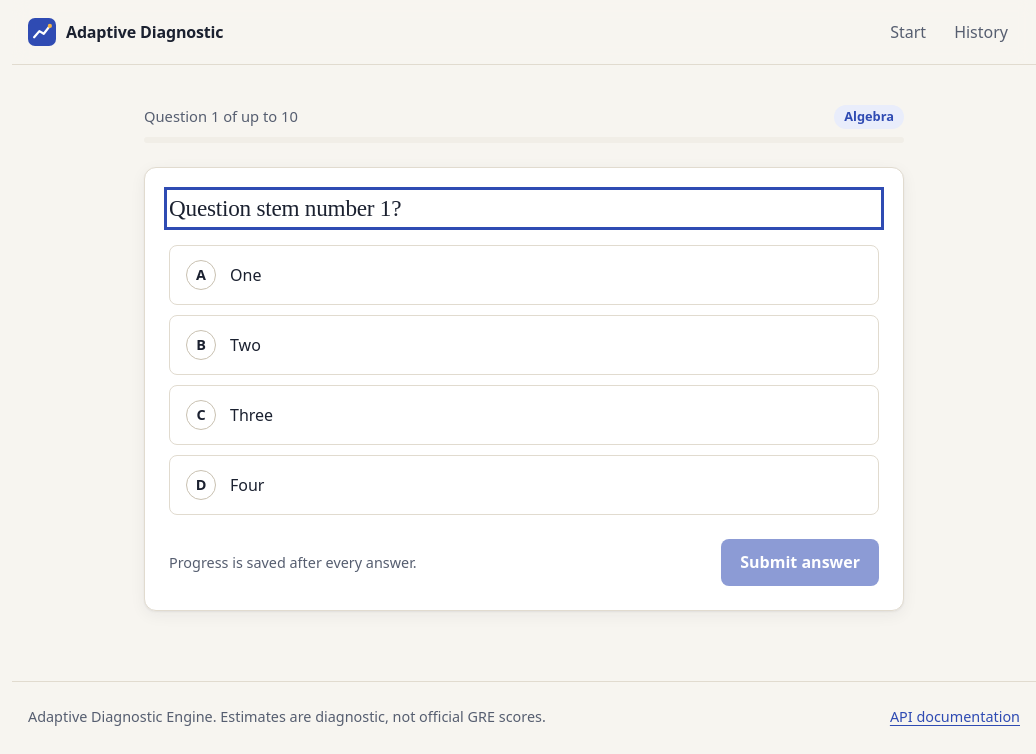
Test: assessment page › lets the student retry after a network failure
This screenshot has width=1036, height=754.
Click the radio button labelled "A One" at (246, 275), box 169,246 -> 879,306
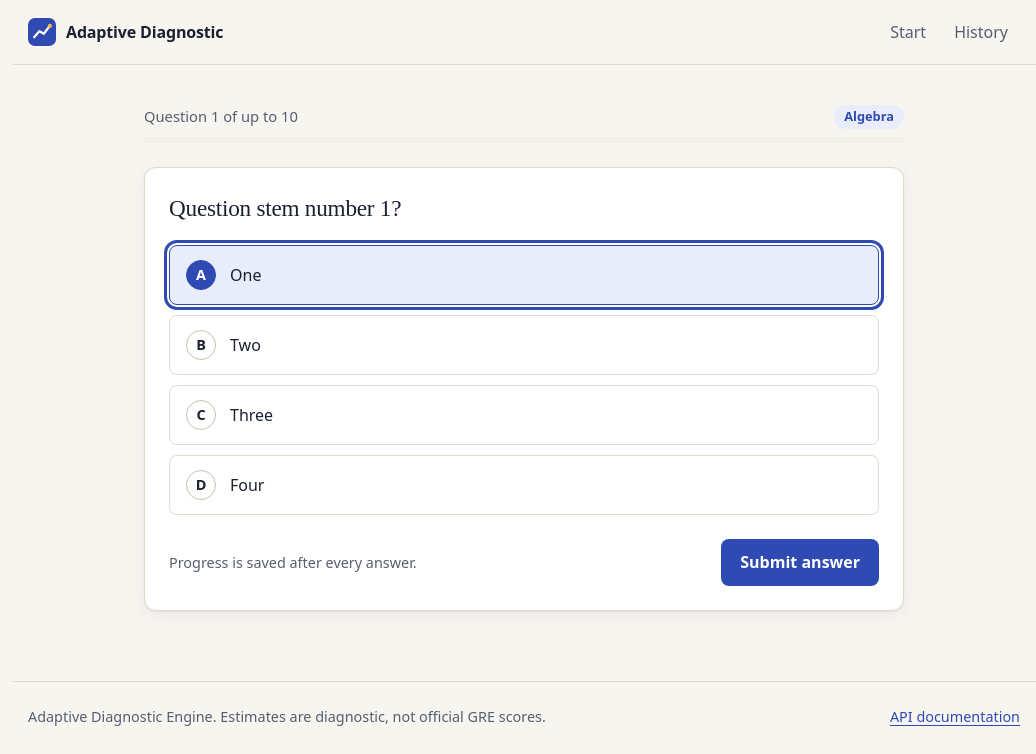
Click the button "Submit answer" at (800, 563), box 721,540 -> 879,586
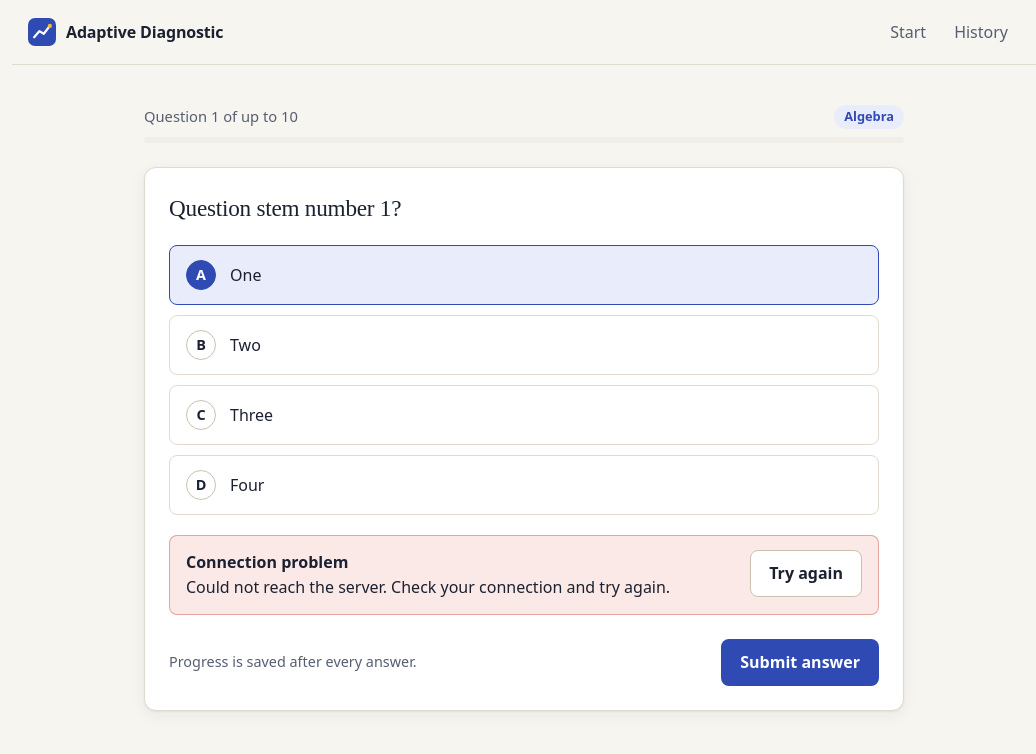
Check: the radio button labelled "A One" is checked, box 169,246 -> 879,306
Check: the text "Could not reach the server" is shown, box 186,576 -> 670,598
Click the button "Try again" at (806, 574), box 750,550 -> 862,597
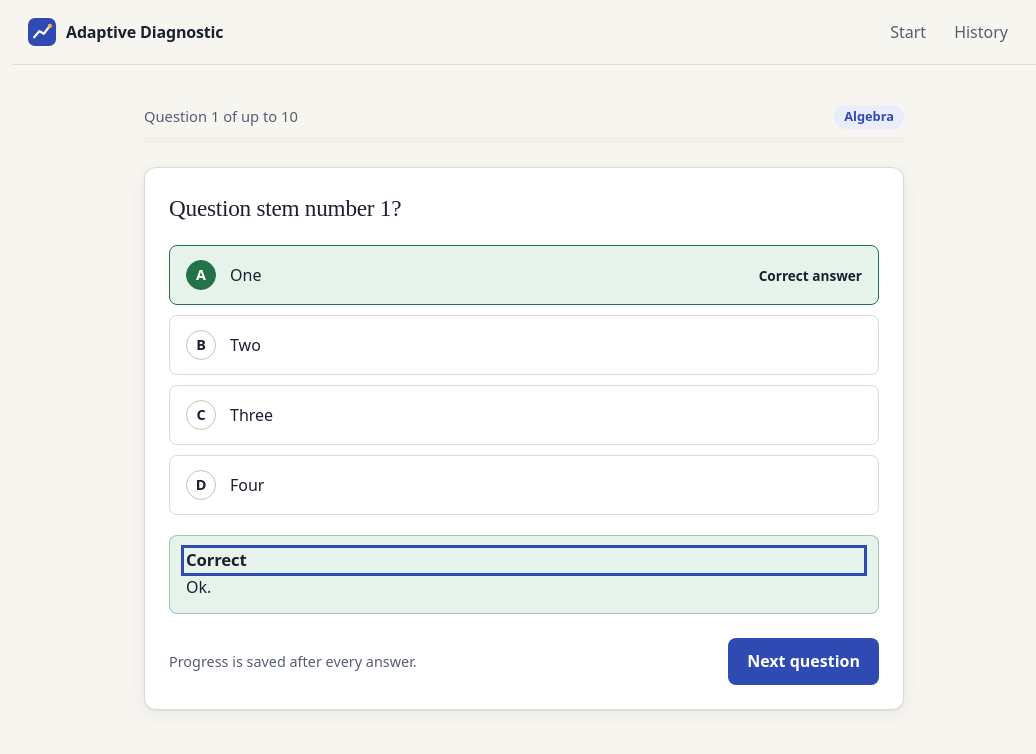
Check: the heading "Correct" is shown, box 186,548 -> 247,572
